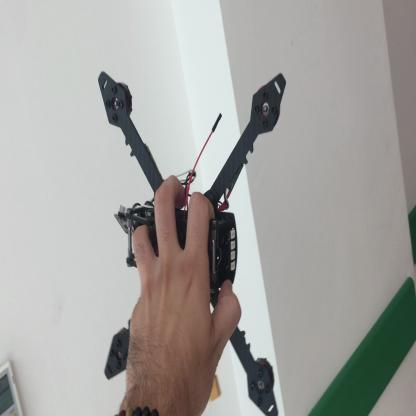drone: (86, 57, 290, 416)
